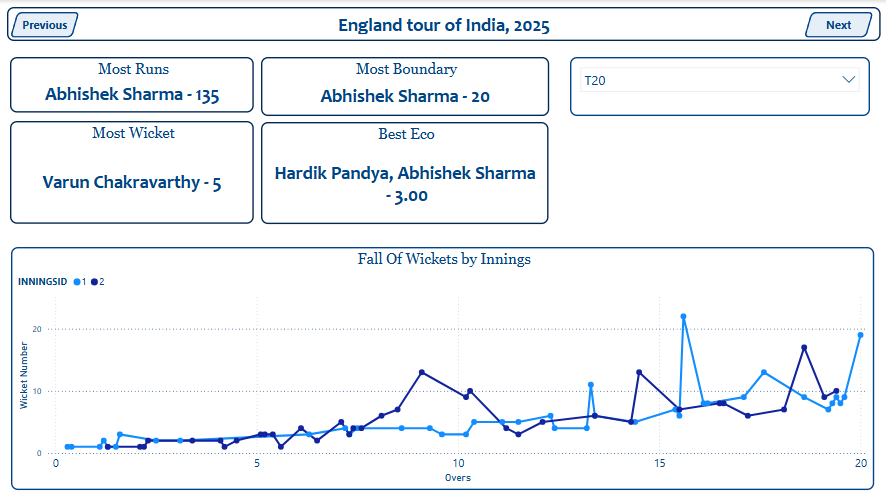

The dashboard page shown, as its layout file describes it:
{"tool":"powerbi","page":{"name":"Matches Analysis","canvas":[1280,720],"ordinal":1},"visuals":[{"type":"slicer","title":"Match ID","fields":{"Values":["MATCHES_MAIN.format","MATCHES_MAIN.MATCHDESCRIPTION"]},"box":[821.7,81.7,431.7,85],"z":4000},{"type":"lineChart","title":"Fall Of Wickets by Innings","fields":{"Category":["WICKETS_MAIN.WKTOVER"],"Series":["WICKETS_MAIN.INNINGSID"],"Y":["WICKETS_MAIN.WKTNBR"]},"box":[16.7,355,1243.3,350],"z":5000},{"type":"card","title":"Most Runs","fields":{"Values":["BATTINGPERFORMANCE_MAIN.BatsmanWithMaxRuns"]},"box":[15.7,81.4,351.4,80],"z":6000},{"type":"card","title":"Most Wicket","fields":{"Values":["BOWLINGPERFORMANCE_MAIN.BowlerWithMaxWickets"]},"box":[16,174,351,148],"z":7000},{"type":"card","title":"Most Boundary","fields":{"Values":["BATTINGPERFORMANCE_MAIN.BatsmanWithMostBoundary"]},"box":[376.9,81.5,414.6,84.6],"z":8000},{"type":"card","title":"Best Eco","fields":{"Values":["BOWLINGPERFORMANCE_MAIN.BowlerWithBestEco"]},"box":[377.1,175.7,414.3,147.1],"z":9000},{"type":"textbox","box":[791.4,3.6,242.1,62.9],"z":10000},{"type":"card","fields":{"Values":["SERIES_MAIN.SERIESDESC"]},"box":[11.8,10,1258.2,49.1],"z":11000,"group":"g1"},{"type":"actionButton","box":[1160,16.7,100,36.7],"z":12000,"group":"g1"},{"type":"actionButton","box":[16.6,16.7,100,36.7],"z":14001,"group":"g1"},{"type":"group","id":"g1","title":"Group 1","box":[11.8,10,1258.2,49.1],"z":14002}]}

Visuals, with their boxes in screenshot pixels (x1, y1, x2, y2), scaled from the page's 1280x720 canvas onto the 886x498 screenshot:
"Match ID" slicer: (x1=569, y1=57, x2=868, y2=115)
"Fall Of Wickets by Innings" lineChart: (x1=12, y1=246, x2=872, y2=488)
"Most Runs" card: (x1=11, y1=56, x2=254, y2=112)
"Most Wicket" card: (x1=11, y1=120, x2=254, y2=223)
"Most Boundary" card: (x1=261, y1=56, x2=548, y2=115)
"Best Eco" card: (x1=261, y1=122, x2=548, y2=223)
textbox: (x1=548, y1=2, x2=715, y2=46)
card - SERIES_MAIN.SERIESDESC: (x1=8, y1=7, x2=879, y2=41)
actionButton: (x1=803, y1=12, x2=872, y2=37)
actionButton: (x1=11, y1=12, x2=81, y2=37)
"Group 1" group: (x1=8, y1=7, x2=879, y2=41)
